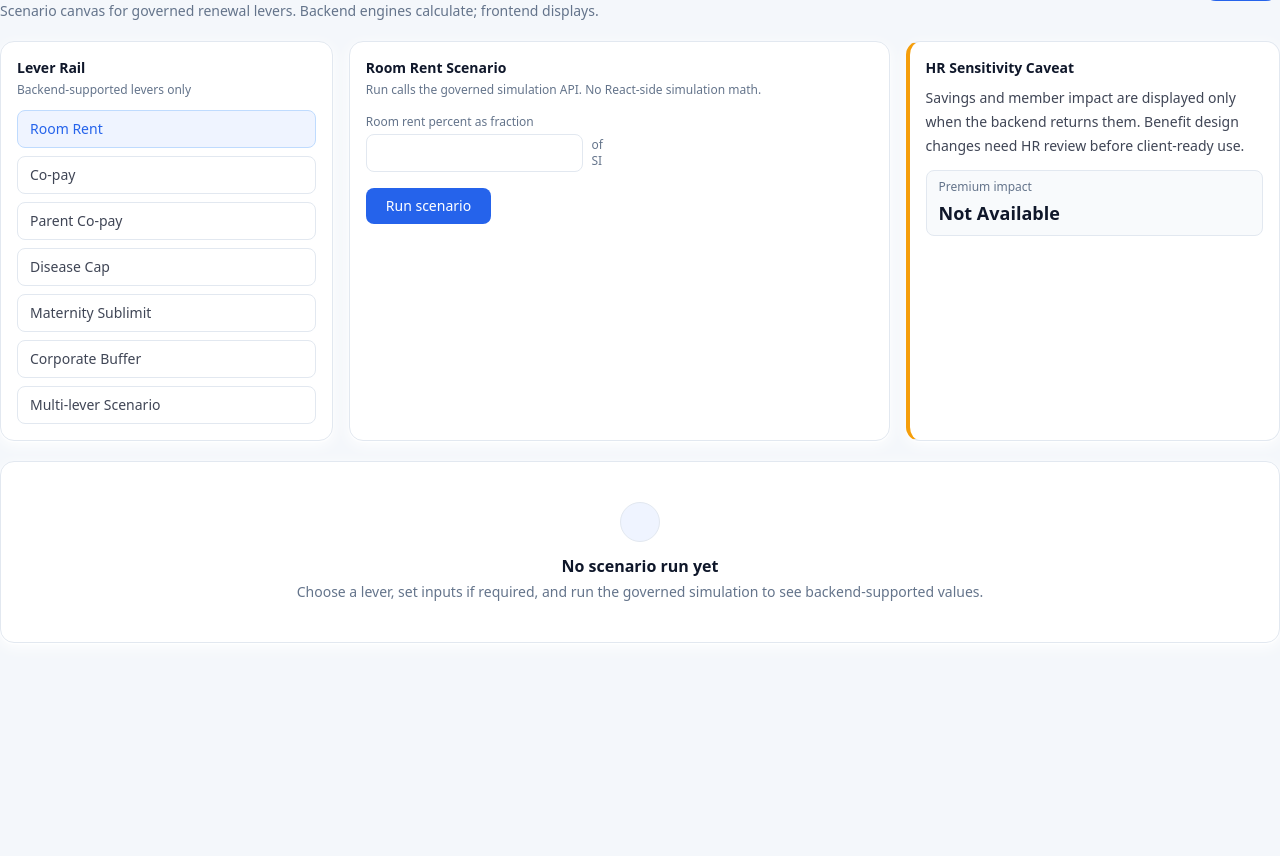
Test: Savings Sandbox (API-driven) › parent co-pay shows employee impact
Step 1. Click the button with test id "lever-parent-copay" → (76, 220), box [17, 202, 316, 240]
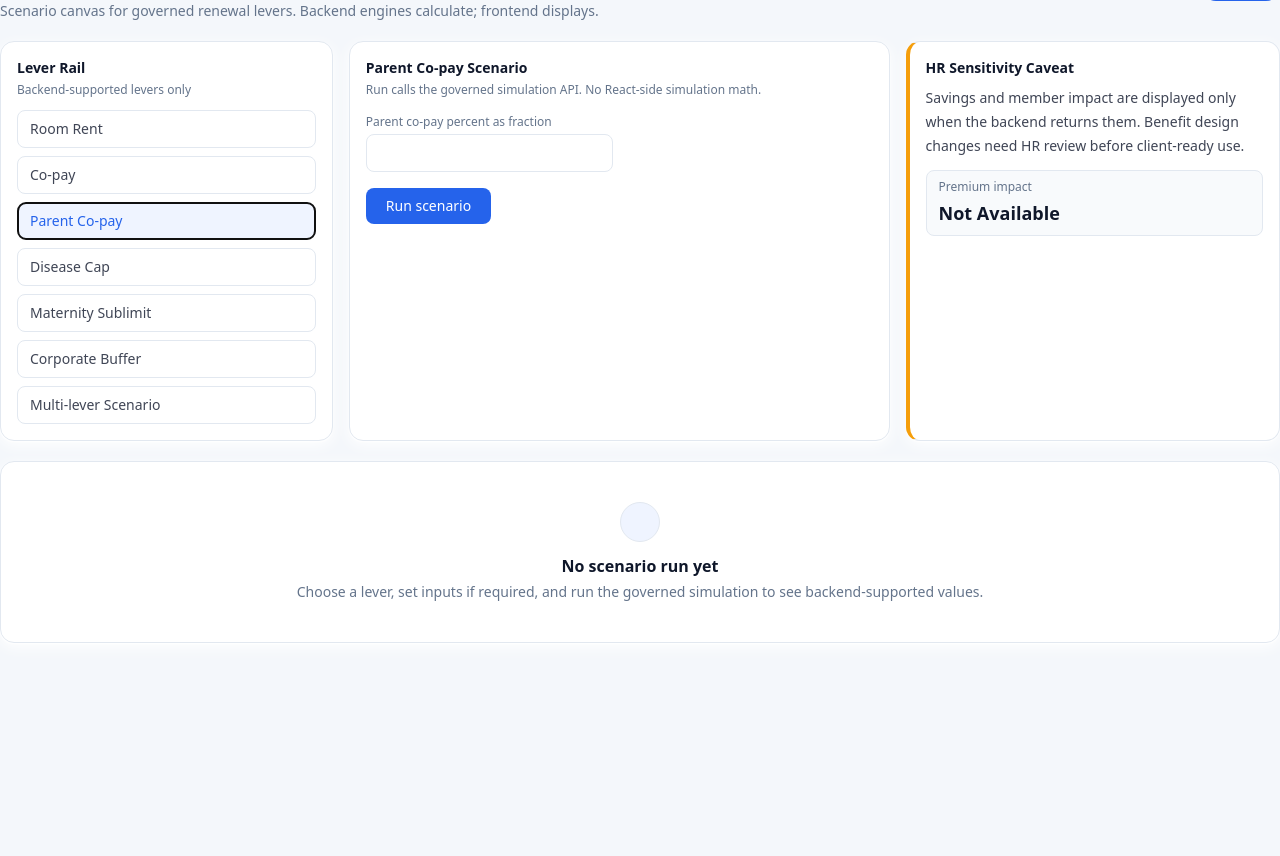
Step 2. Type "0.20" into the number field labelled "Parent co-pay percent as fraction" → (490, 153), box [366, 134, 613, 172]
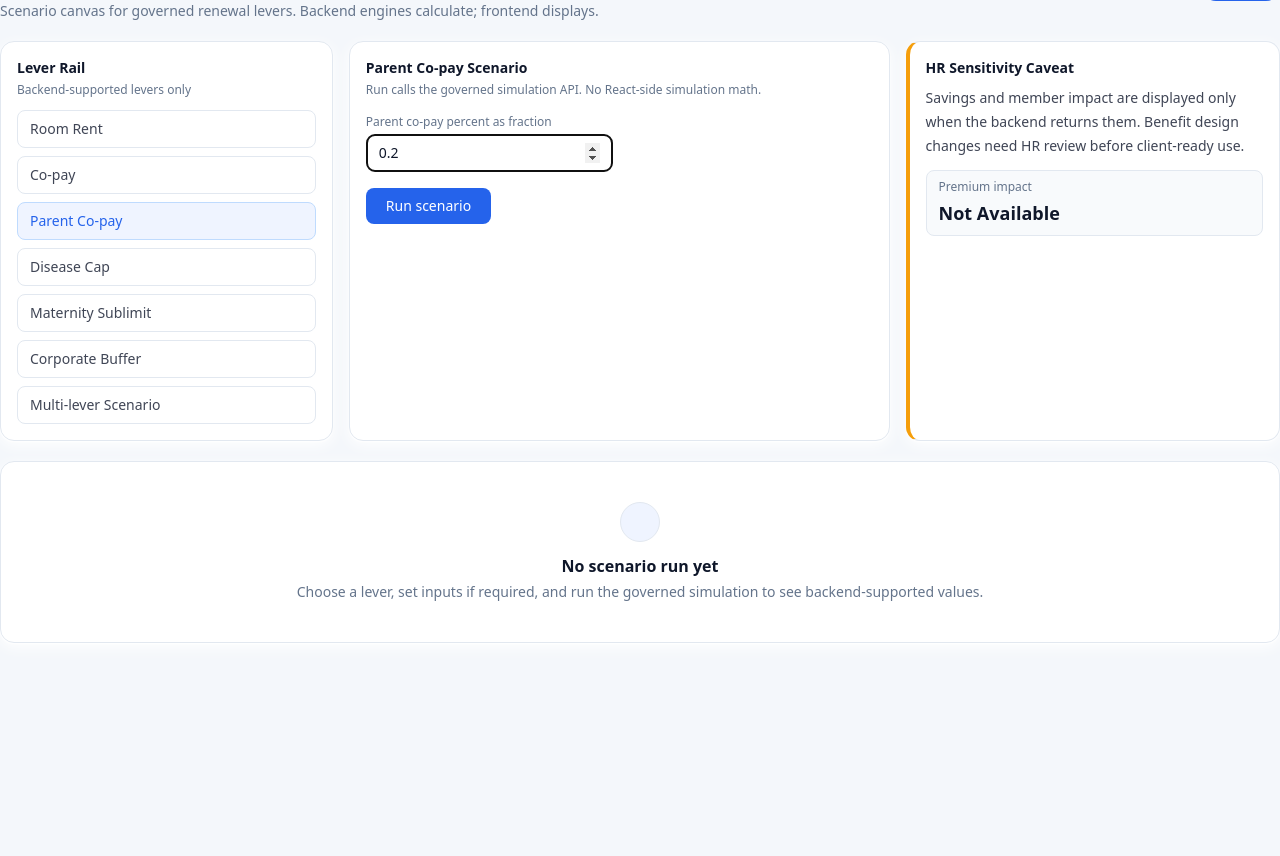
Step 3. Click the button with test id "run-scenario" → (428, 206), box [366, 188, 491, 224]
(page scrolled)
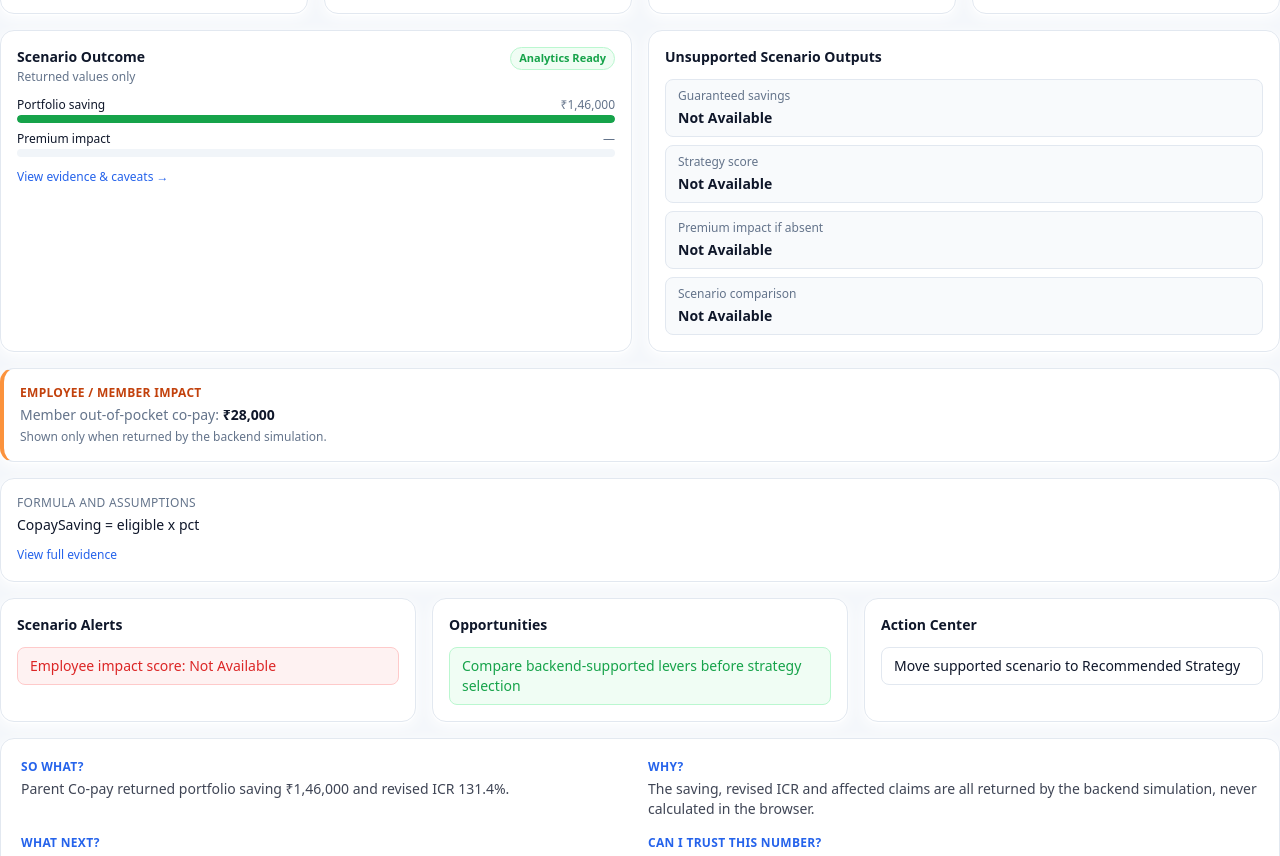
Now the element with test id "employee-impact" is shown, box [20, 384, 327, 445]
